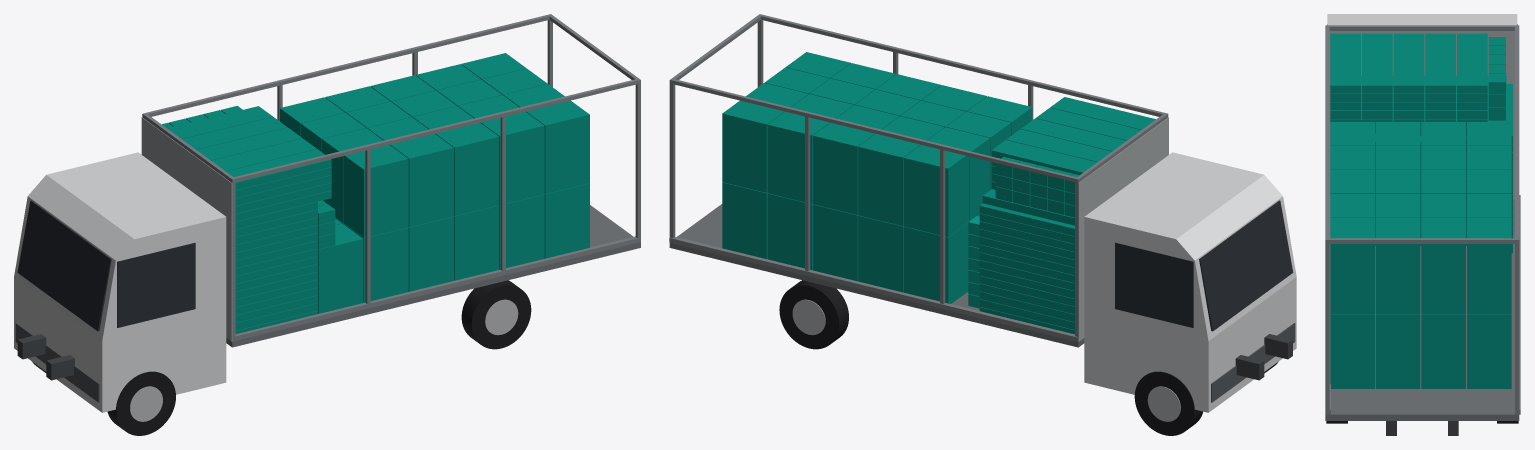
Rendered from caminhao-FD04.glb.
3 renders of one model, left to right at view 1: azimuth 30°, elevation 25°; view 2: azimuth 150°, elevation 25°; view 3: azimuth 270°, elevation 25°, orthographic. The views are drawn at different scales.
Parts seen in each view (by area): view 1: cabine, part21, janela, part124, frente, part132, part156, part140, piso, part148, part117, part128 (+57 smaller); view 2: cabine, part21, janela, part127, frente, part123, part159, part143, part135, piso, part151, part15 (+52 smaller); view 3: piso, part157, part156, part158, part159, part153, part154, part155, part152, cabine, part114, frente (+47 smaller).
Part boxes in pixels (box(x1,y1,x2,y2)): cabine: box(14, 152, 226, 412); part21: box(17, 200, 111, 331); janela: box(117, 242, 195, 327); part124: box(343, 145, 408, 238); frente: box(141, 117, 232, 341); part132: box(389, 134, 453, 226); part156: box(526, 100, 589, 193); part140: box(435, 123, 499, 215); piso: box(226, 205, 640, 347); part148: box(480, 111, 544, 204); part117: box(318, 223, 363, 313); part128: box(408, 216, 453, 291); cabine: box(1084, 152, 1296, 412); part21: box(1199, 200, 1293, 331); janela: box(1115, 242, 1193, 327); part127: box(903, 145, 968, 236); frente: box(1078, 117, 1168, 341); part123: box(903, 223, 968, 303); part159: box(722, 100, 784, 192); part143: box(813, 122, 875, 214); part135: box(858, 134, 920, 225); piso: box(669, 204, 1084, 347); part151: box(767, 111, 829, 203); part15: box(669, 237, 1078, 341); piso: box(1325, 200, 1519, 420); part157: box(1375, 217, 1420, 314); part156: box(1330, 217, 1374, 314); part158: box(1421, 217, 1465, 314); part159: box(1467, 217, 1511, 314); part153: box(1375, 314, 1420, 388); part154: box(1421, 314, 1465, 388); part155: box(1467, 314, 1511, 388); part152: box(1330, 314, 1374, 388); cabine: box(1327, 14, 1517, 25); part114: box(1393, 33, 1424, 93); frente: box(1329, 31, 1514, 199).
Bounding box in the file's own units: 9.04 × 3.61 × 2.53.
